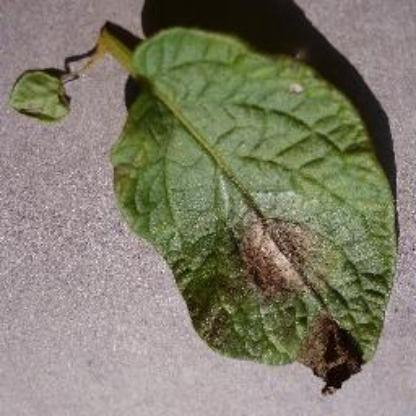Late-Blight: (71, 17, 391, 396)
